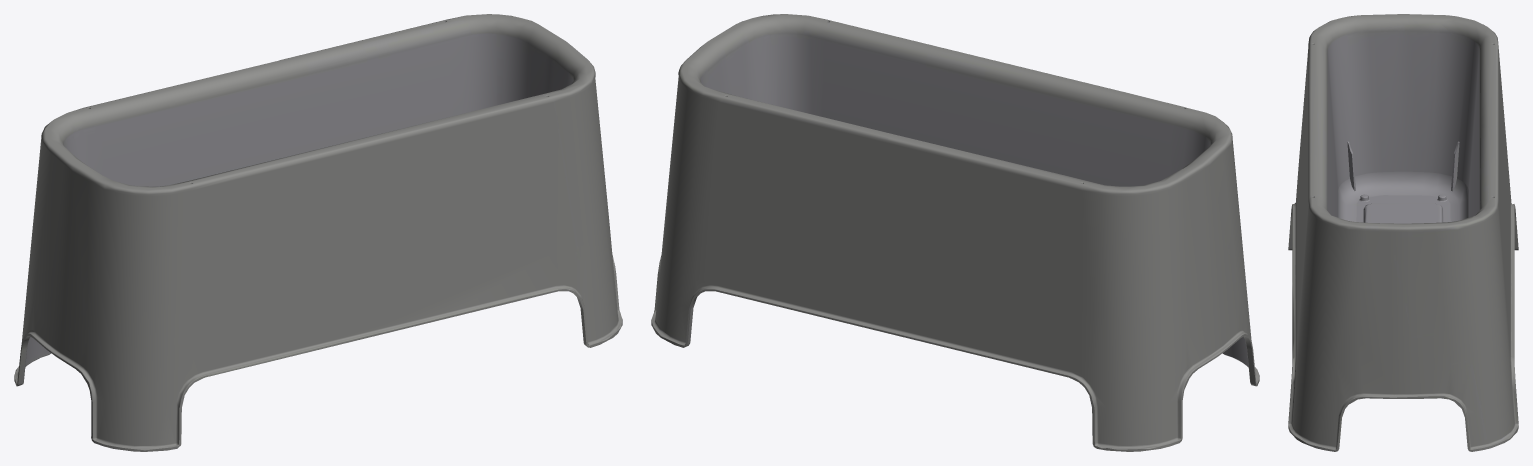
3 views of the same model, side by side, from view 1: azimuth 30°, elevation 25°; view 2: azimuth 150°, elevation 25°; view 3: azimuth 270°, elevation 25° (orthographic). The views are drawn at different scales.
Visible parts, largest first — view 1: ASY_ART_10539269_S01_NV01; view 2: ASY_ART_10539269_S01_NV01; view 3: ASY_ART_10539269_S01_NV01.
Boxes of the visible parts, <box> form: ASY_ART_10539269_S01_NV01: <box>14,14,622,451</box>; ASY_ART_10539269_S01_NV01: <box>651,14,1259,451</box>; ASY_ART_10539269_S01_NV01: <box>1288,14,1518,451</box>.
Size of the model in its own units: 0.8978 by 0.4001 by 0.3821.
1 material, 1 textured.
